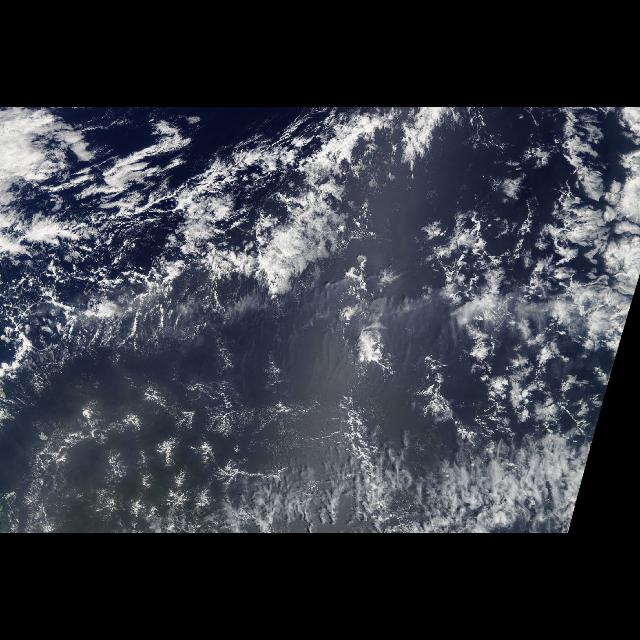Fish: (6, 113, 410, 355)
Flower: (29, 364, 468, 530), (506, 310, 628, 444)
